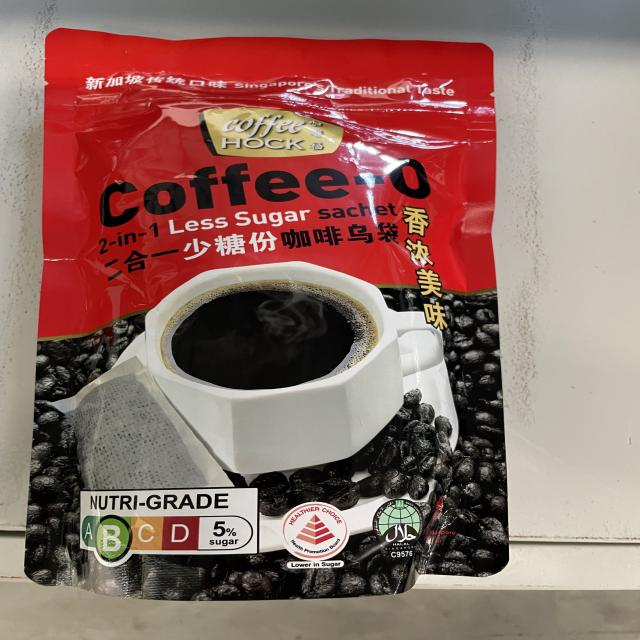object_name: (50, 37, 504, 583)
